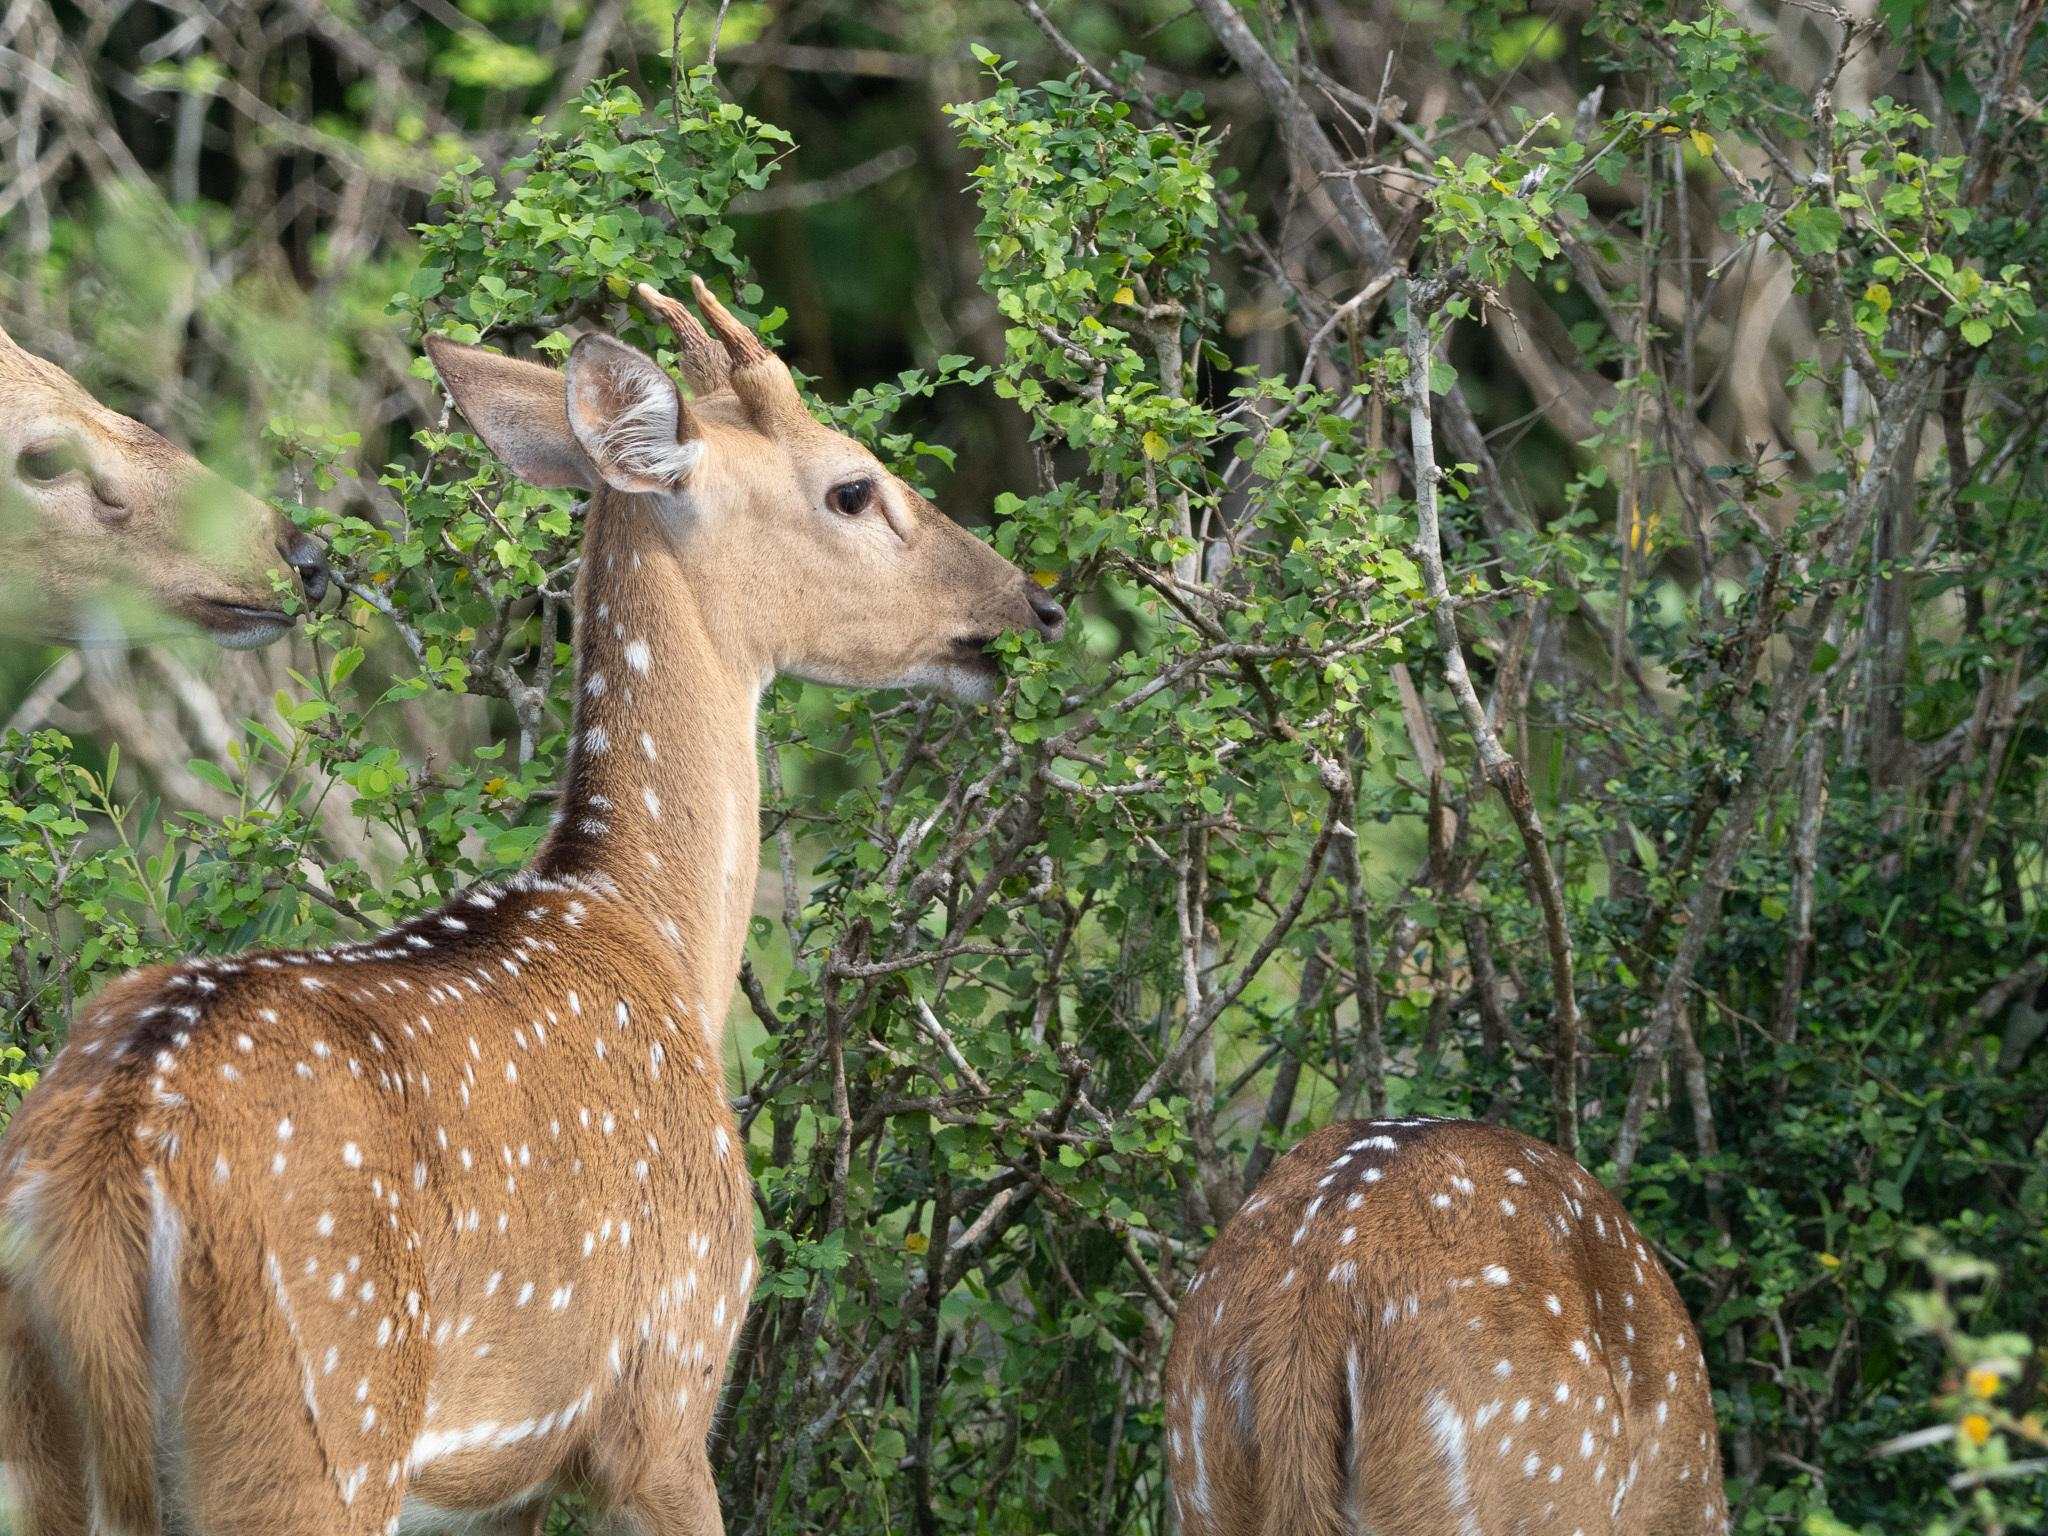Deer: (0, 278, 1064, 1531), (1164, 1120, 1729, 1534)
